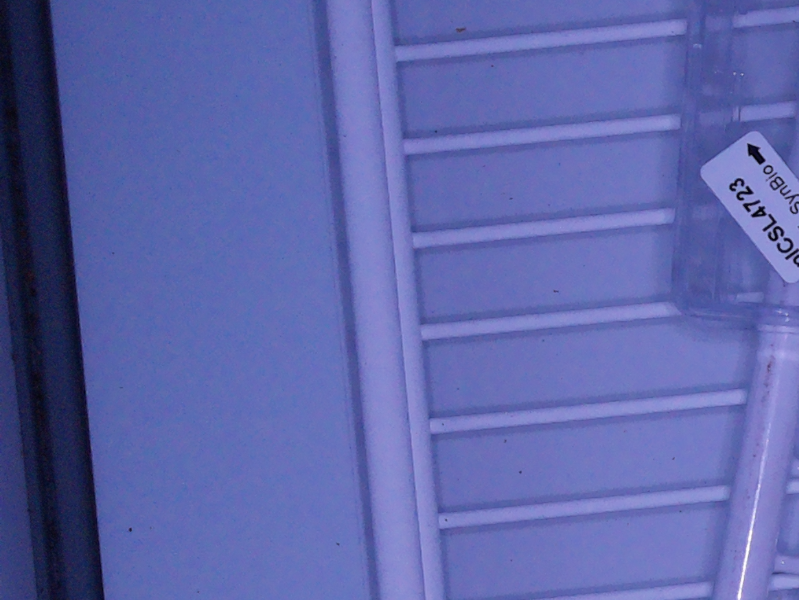plate: (668, 1, 799, 331)
